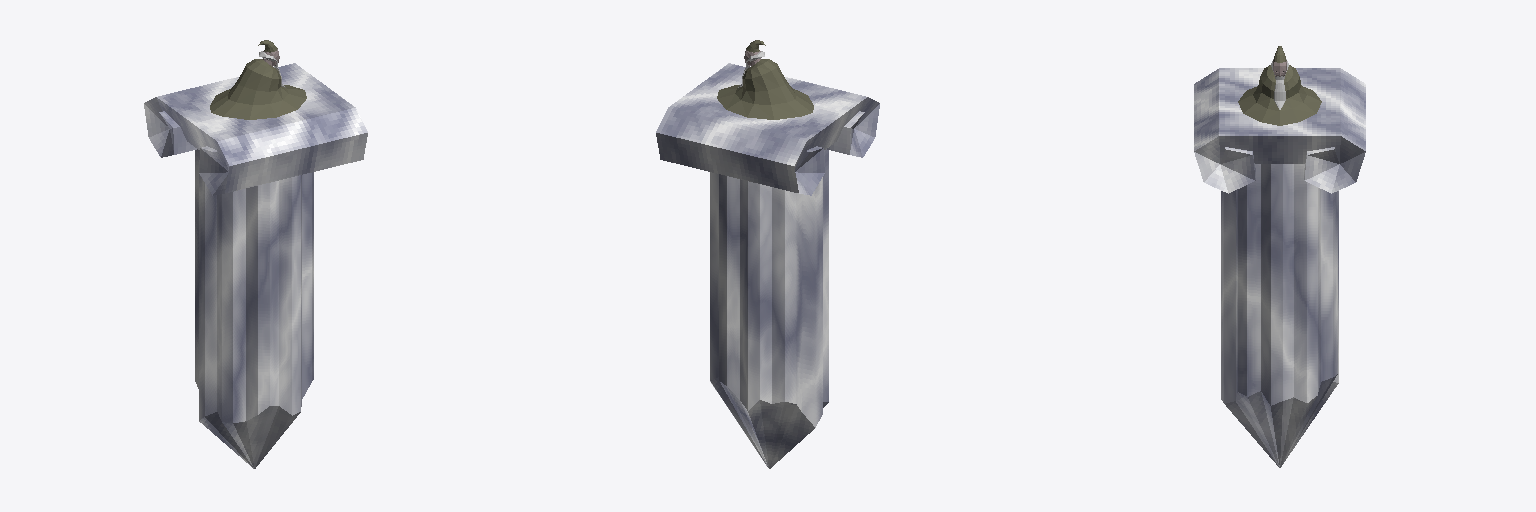
3 views of the same model, side by side, from view 1: azimuth 30°, elevation 25°; view 2: azimuth 150°, elevation 25°; view 3: azimuth 270°, elevation 25° (orthographic).
Bounding box in the file's own units: 9.86 × 28.99 × 10.59.
Materials: 6 (1 with a texture image).